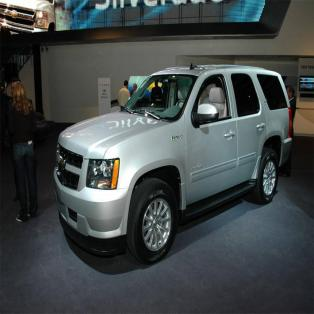Auto: (53, 64, 294, 265)
